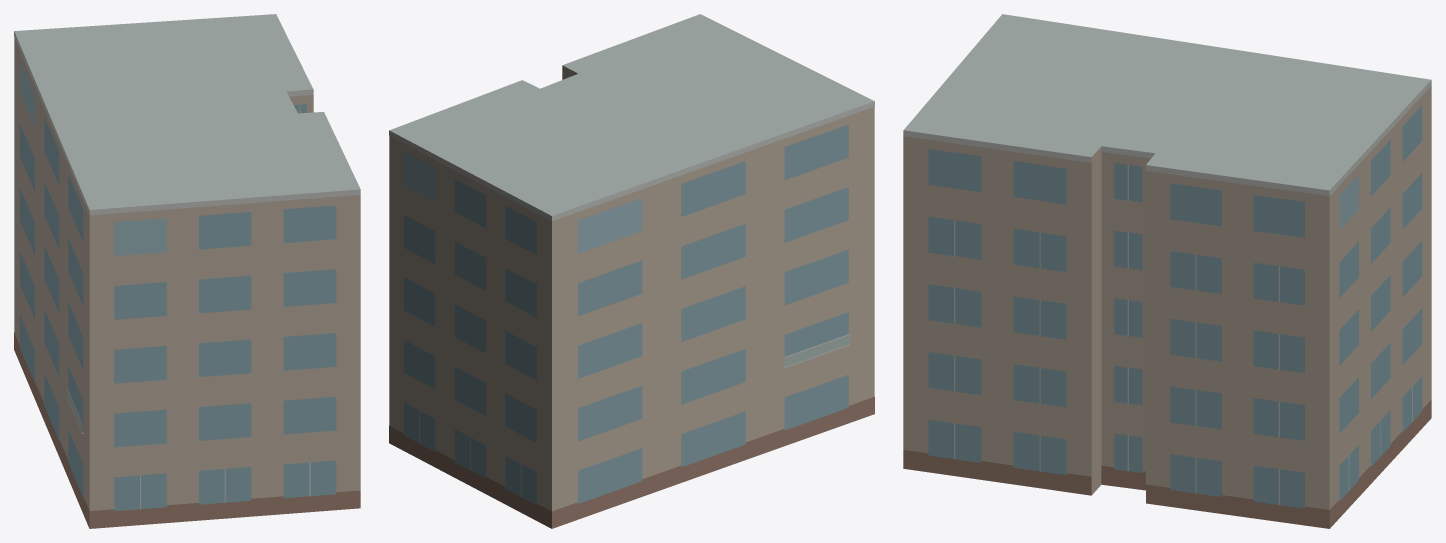
The model's file is survey-upis-33024631.glb.
3 views of the same model, side by side, from view 1: azimuth 30°, elevation 25°; view 2: azimuth 150°, elevation 25°; view 3: azimuth 270°, elevation 25° (orthographic). The views are drawn at different scales.
Parts seen in each view (by area): view 1: survey-upis-33024631.tmp; view 2: survey-upis-33024631.tmp; view 3: survey-upis-33024631.tmp.
Part boxes in pixels (x1,y1,x2,y2): survey-upis-33024631.tmp: (14, 14, 360, 528); survey-upis-33024631.tmp: (389, 14, 874, 528); survey-upis-33024631.tmp: (903, 14, 1431, 528).
Size of the model in its own units: 16 by 14.3 by 20.24.
